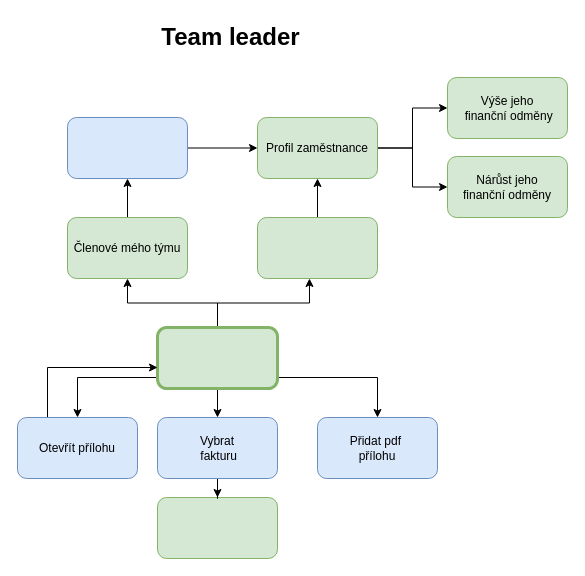
Some shapes in this 585 by 576 pixel diagram are drawn without their labels. The shapes that lost their labels are listed below. From the top down, each one's centre as x and y in pixels, then its label:
At point 127,147: "Vybrat člena týmu".
At point 317,247: "Můj profil".
At point 217,358: "Přehled mých faktur".
At point 217,527: "Výkazy navázané na vybranou fakturu".
